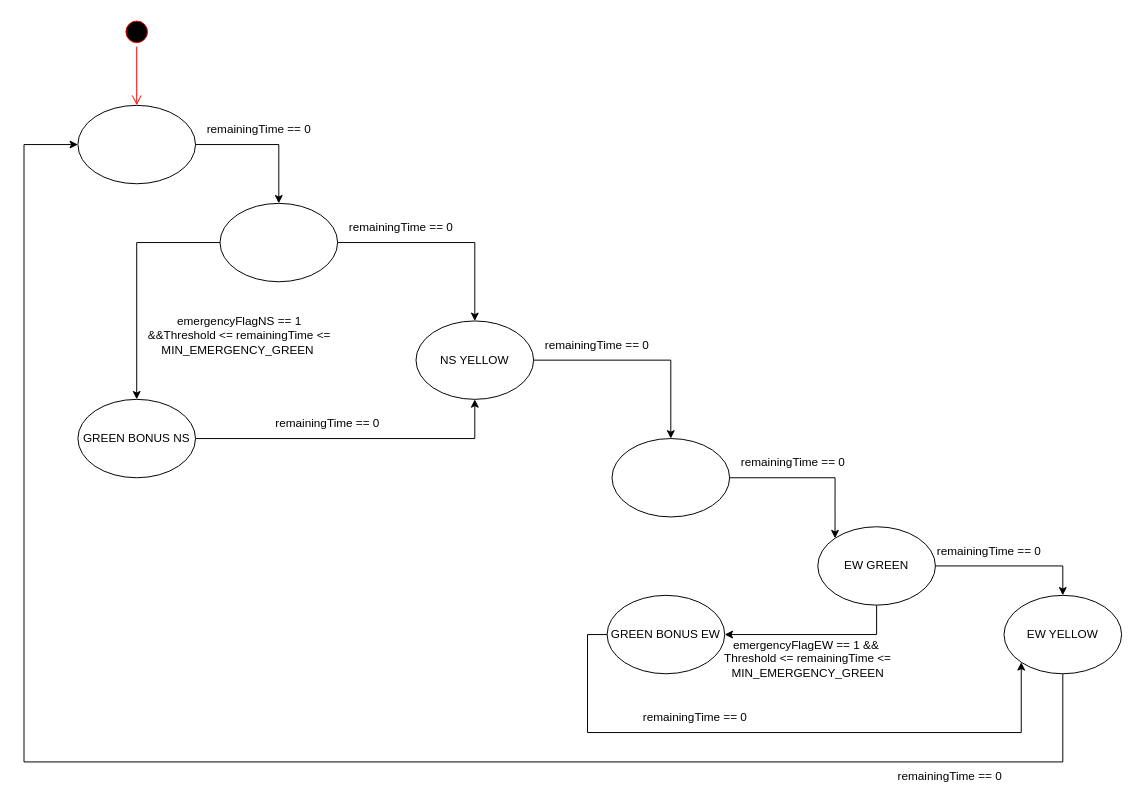
Image size: 1148x809. Some labels were removed from this diagram. Each missing label, with the centre of its shape:
ALL RED 1: the point at 136,144
ALL RED 2: the point at 670,477
NS GREEN: the point at 278,242
